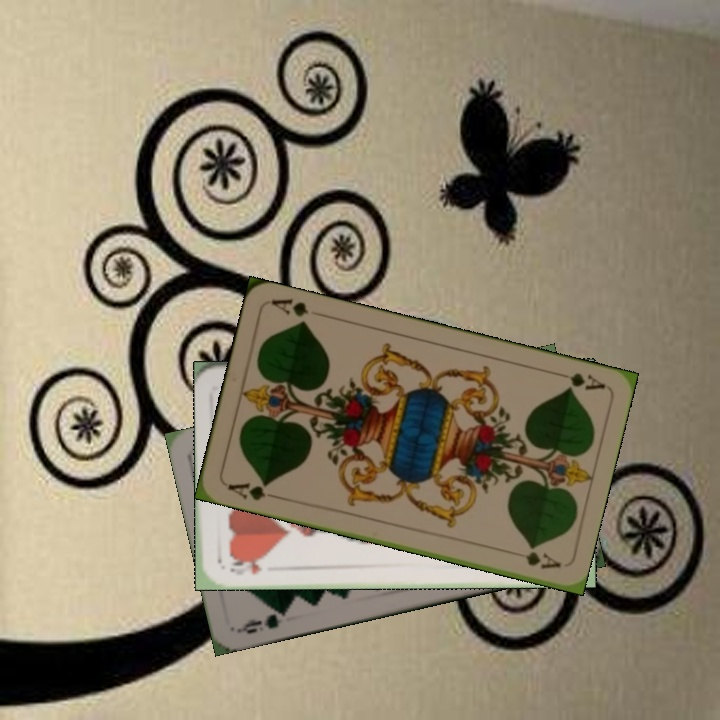G9: (235, 604, 291, 637)
GA: (550, 367, 608, 393), (223, 478, 281, 503)
HO: (226, 554, 267, 577)
